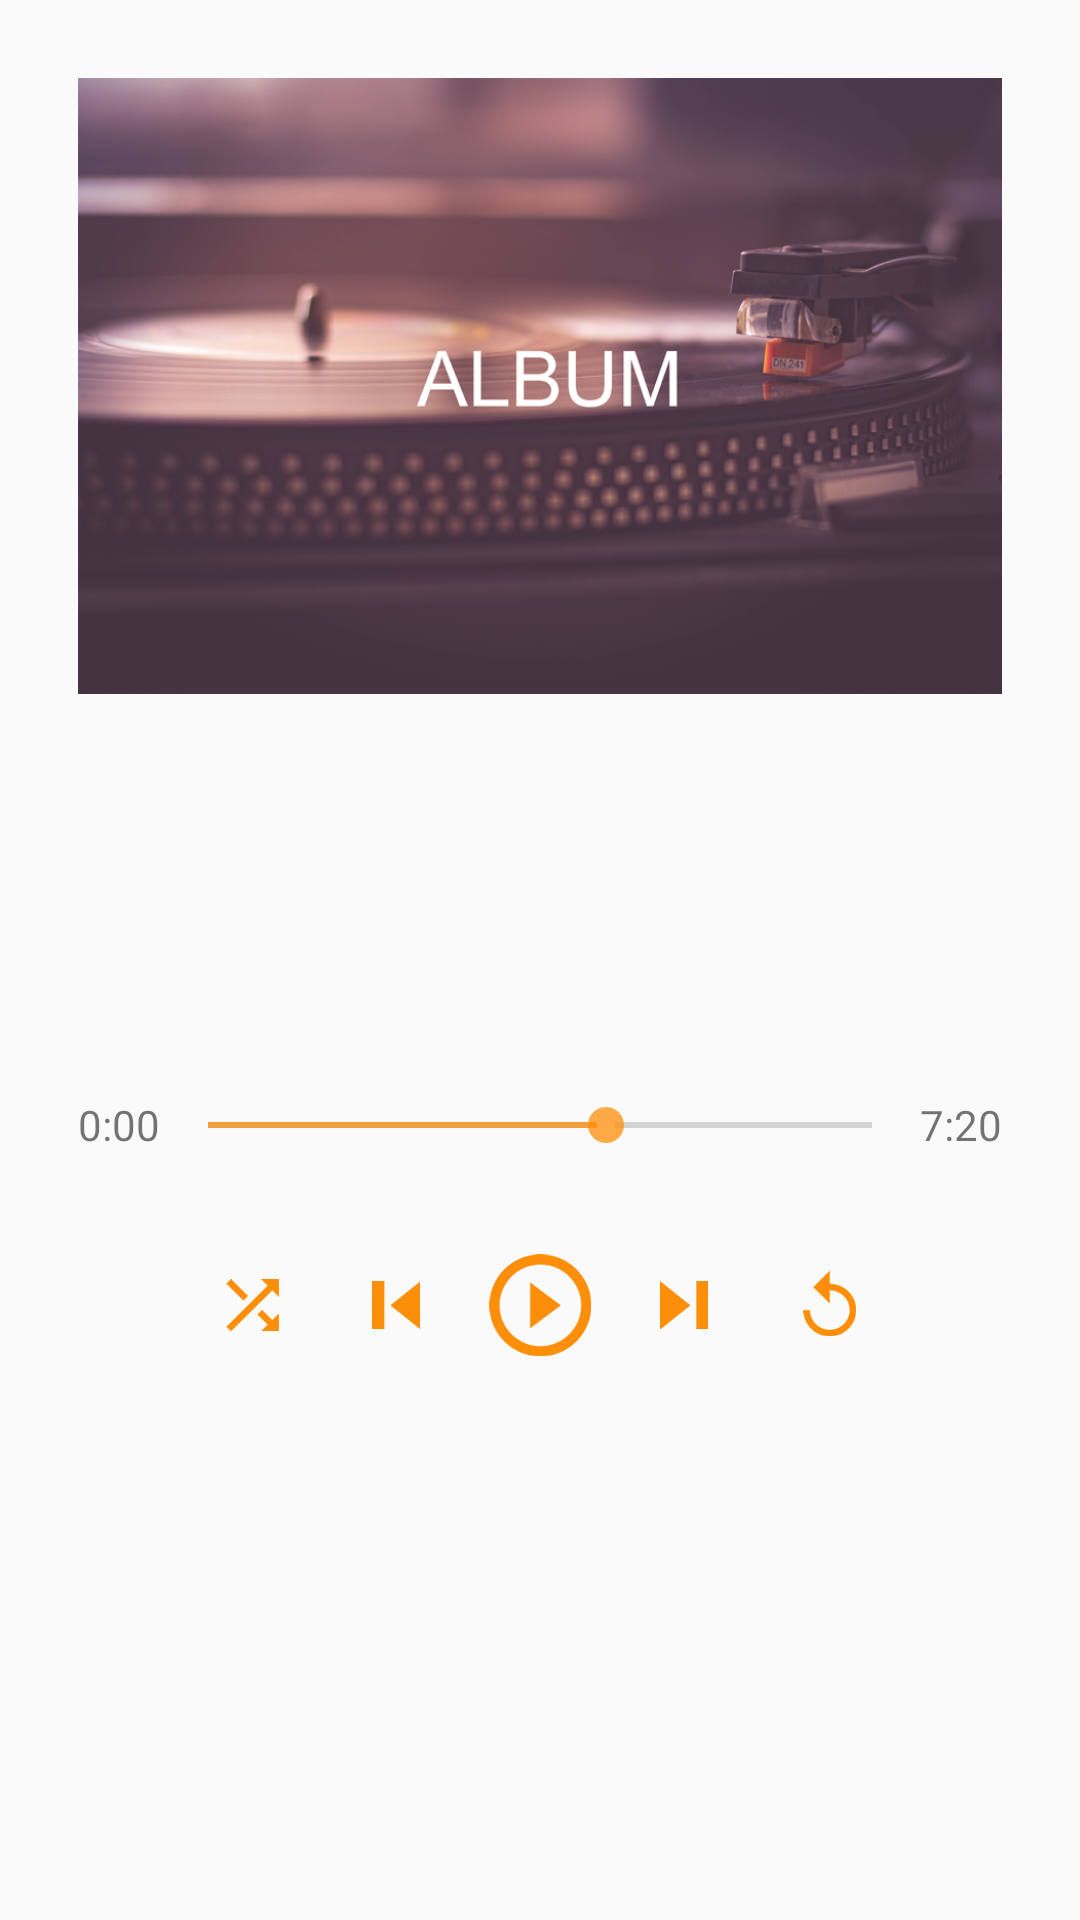

Icons on this 1080 × 1920 Android screen, each with its box as (x1,y1,x2,y2):
Play image button: (489,1254,591,1356)
Replay image button: (803,1270,856,1336)
Skip next image button: (660,1281,708,1329)
Skip previous image button: (372,1281,420,1329)
Suffle Image Button: (226,1279,279,1331)
